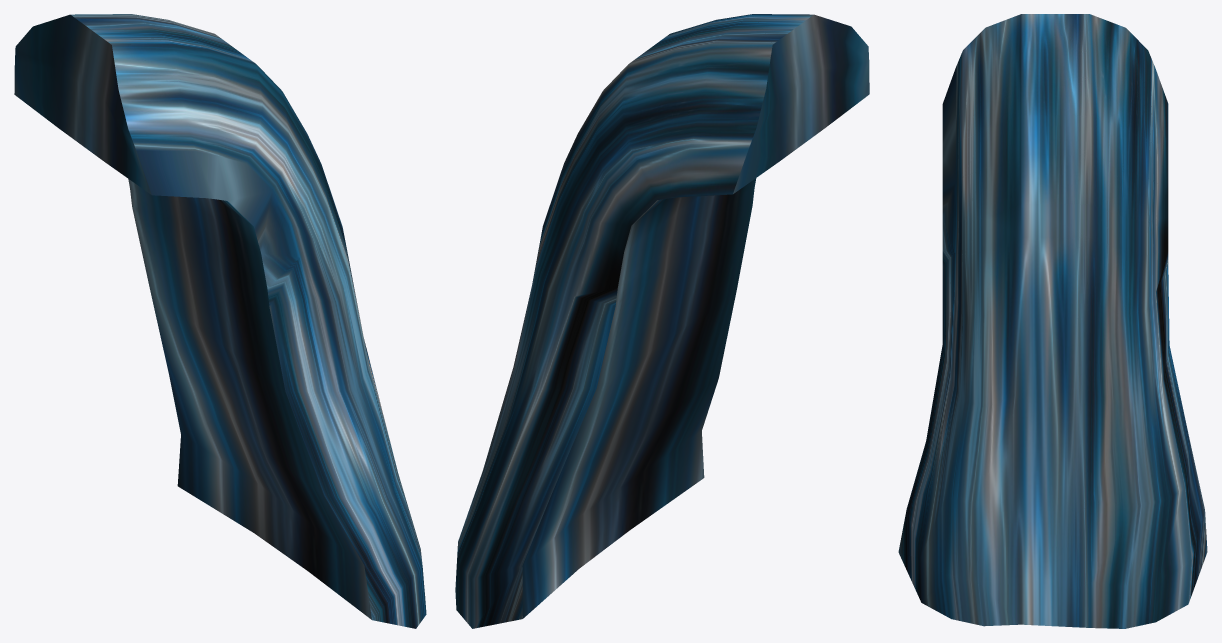
Rendered from waterfall4.fbx.
3 views of the same model, side by side, from view 1: azimuth 30°, elevation 25°; view 2: azimuth 150°, elevation 25°; view 3: azimuth 270°, elevation 25° (orthographic). The views are drawn at different scales.
Parts seen in each view (by area): view 1: pCube14; view 2: pCube14; view 3: pCube14.
Part boxes in pixels (x1,y1,x2,y2): pCube14: [14, 14, 426, 628]; pCube14: [455, 14, 869, 628]; pCube14: [898, 14, 1207, 628].
Size of the model in its own units: 175 by 309 by 174.
